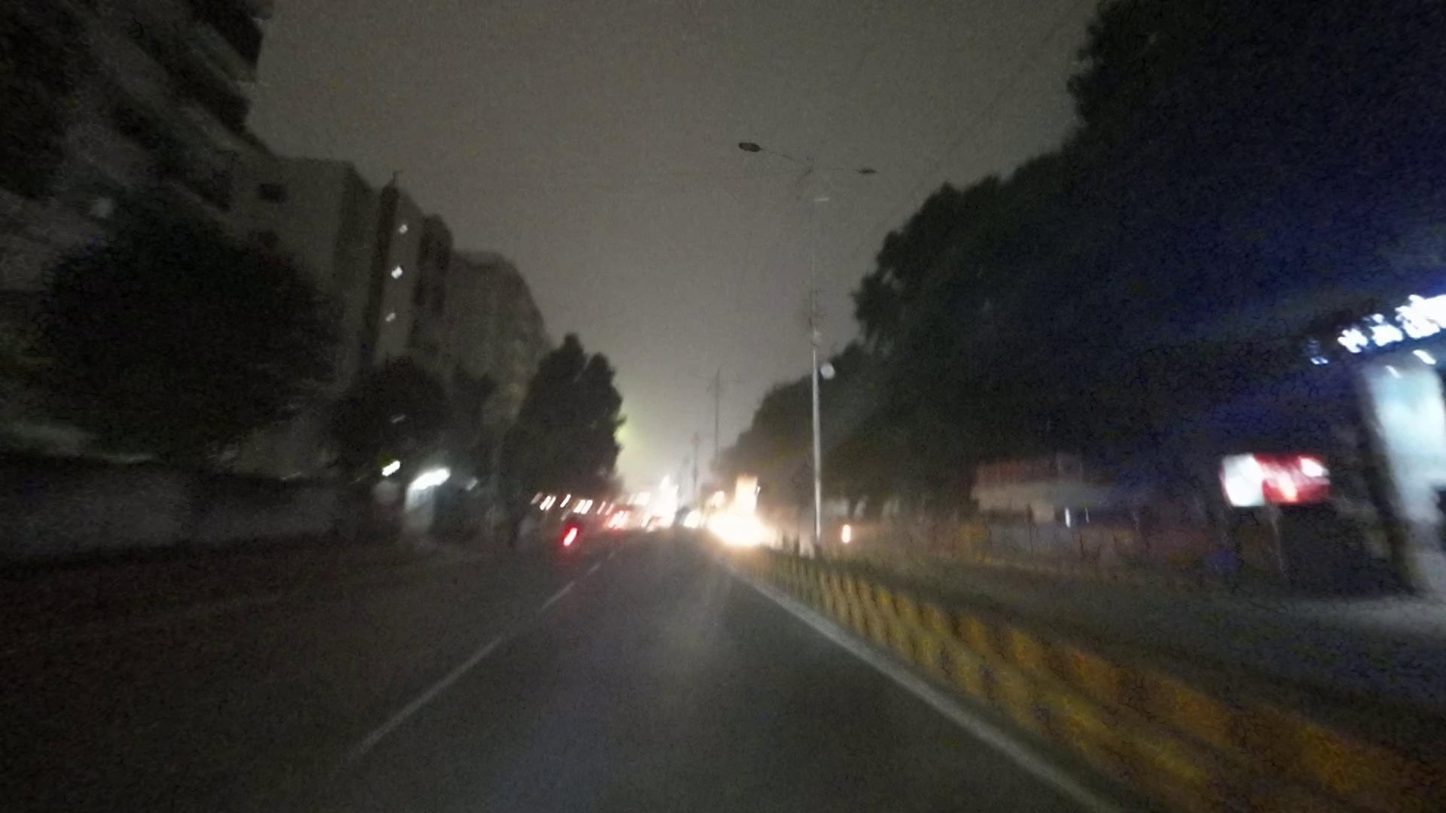streetlight: (737, 140, 808, 168), (815, 163, 882, 176)
